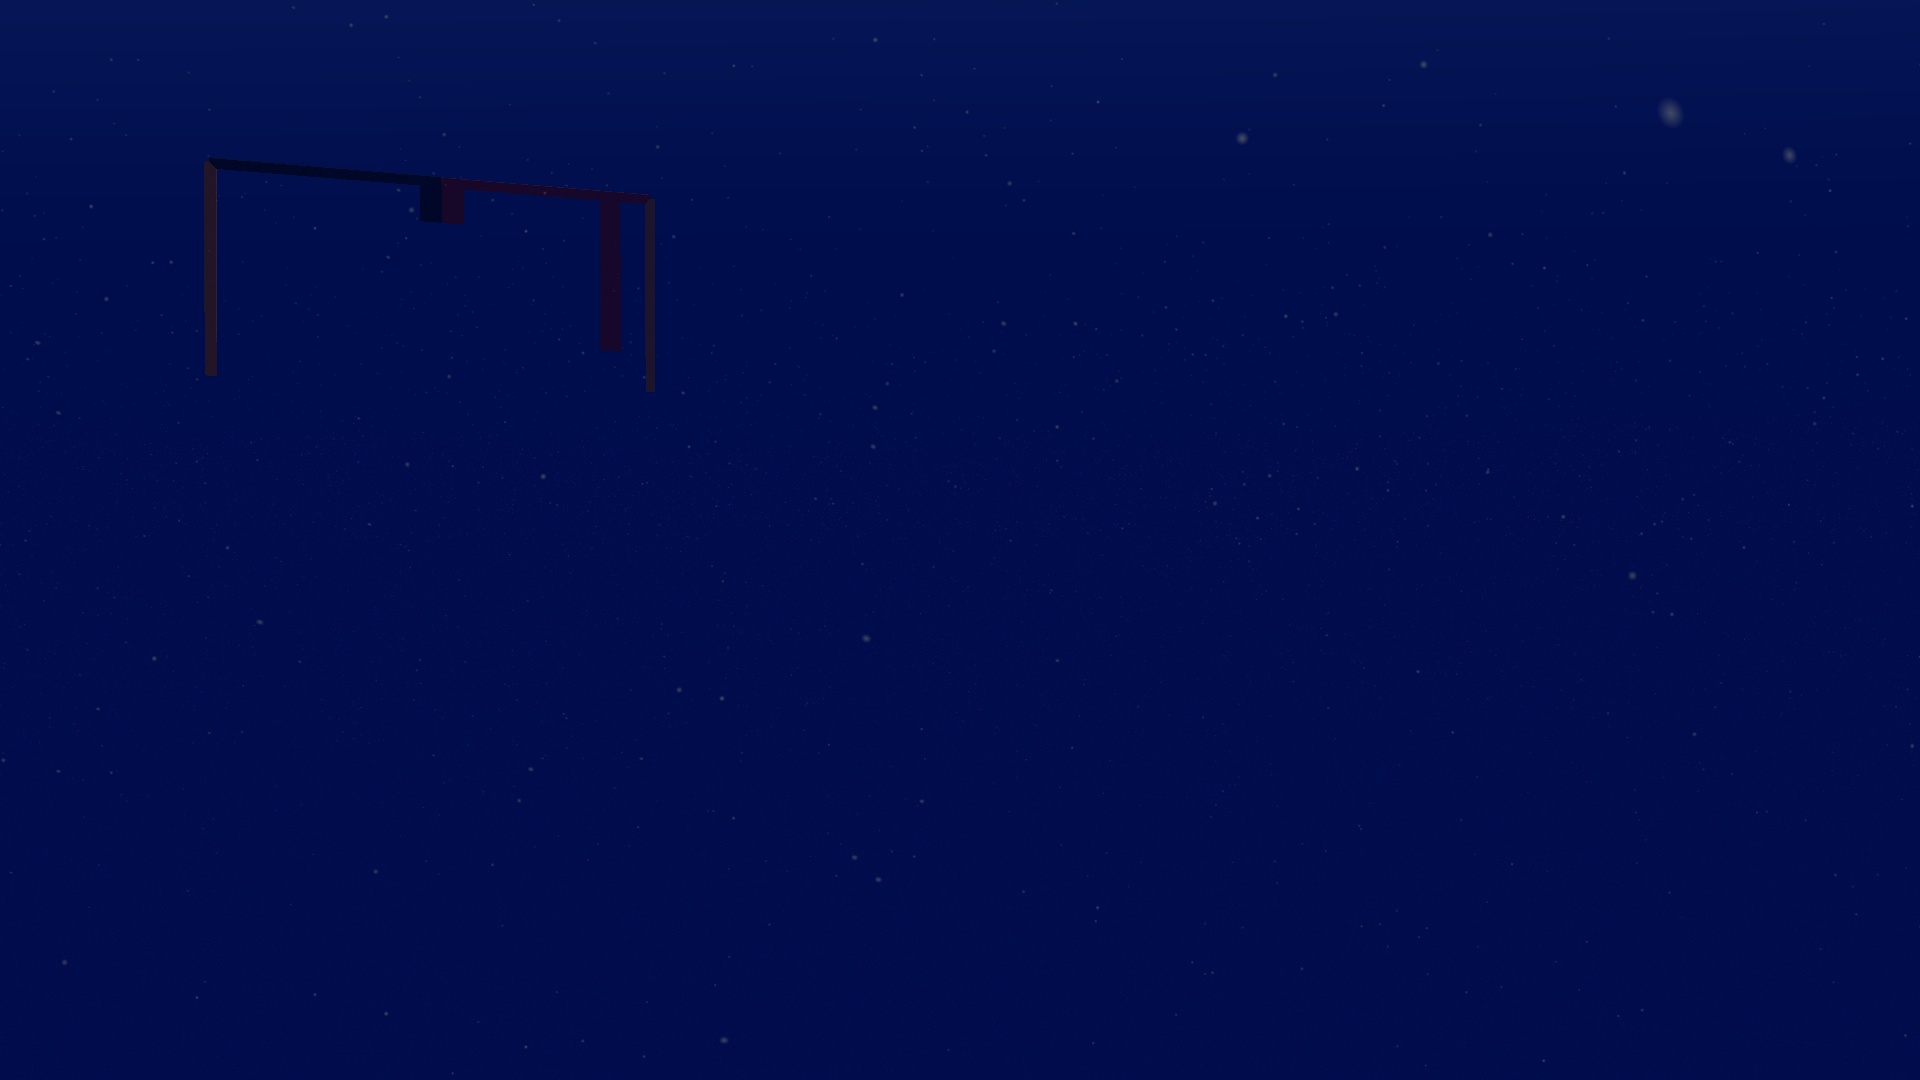Gate: (195, 148, 662, 407)
